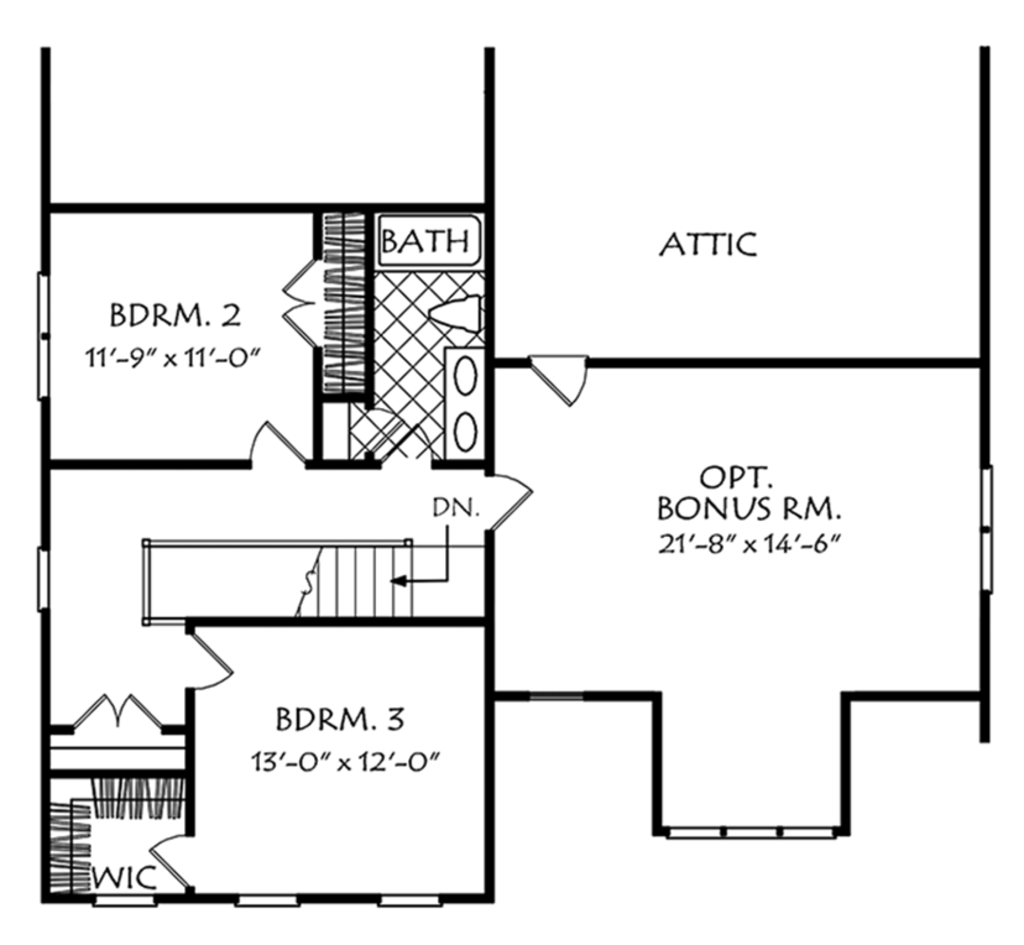door: (528, 347, 603, 415), (67, 692, 161, 737), (245, 422, 327, 472), (278, 262, 328, 342), (150, 824, 199, 893), (183, 631, 237, 690), (481, 474, 531, 527)
large_sink: (420, 292, 486, 334)
small_sink: (453, 346, 483, 464)
stairs: (140, 542, 498, 625)
tub: (373, 215, 486, 272)
window: (28, 267, 65, 406), (673, 818, 839, 846), (977, 464, 1002, 602), (362, 886, 452, 909), (228, 886, 311, 909), (31, 539, 53, 609), (87, 889, 161, 906)
